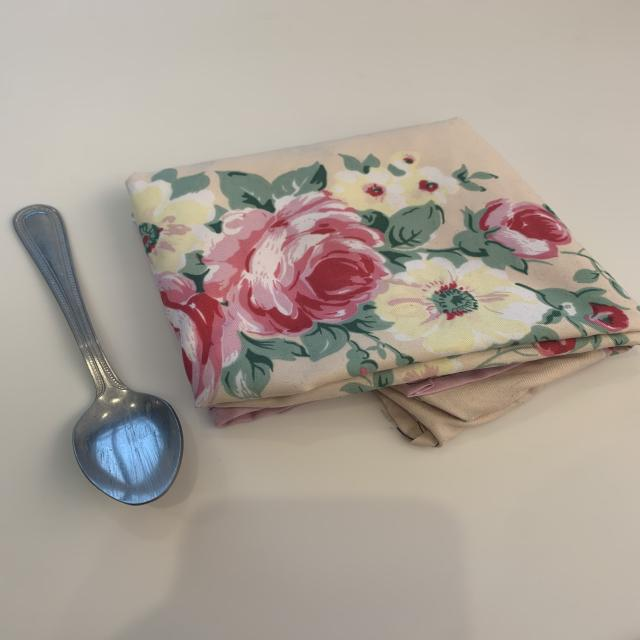Spoon: (6, 198, 208, 522)
